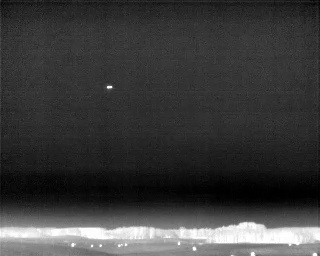AIRPLANE: (105, 83, 114, 92)
